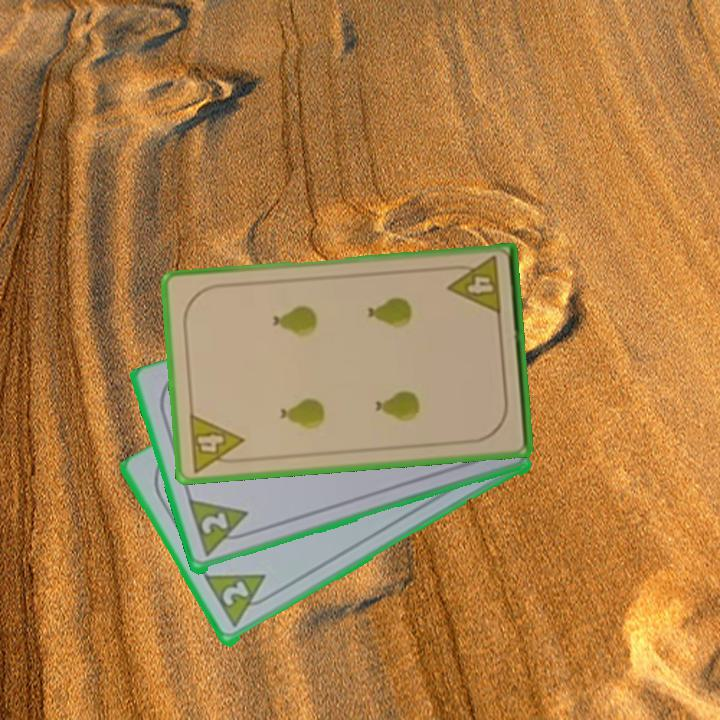2p: (185, 497, 256, 560), (218, 577, 252, 610)
4p: (185, 410, 248, 475), (444, 253, 504, 318)
